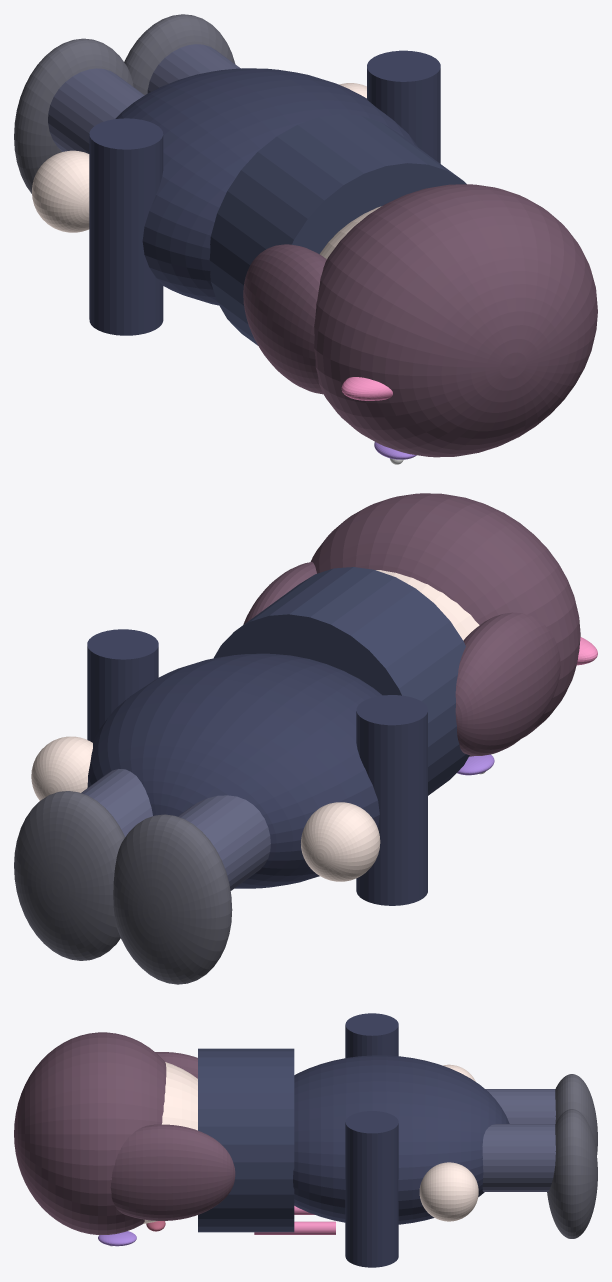
Rendered from shalu_3d.glb.
3 views of the same model, one above another, from view 1: azimuth 30°, elevation 25°; view 2: azimuth 150°, elevation 25°; view 3: azimuth 270°, elevation 25° (orthographic). The views are drawn at different scales.
Visible parts, largest first — view 1: shalu_part_3, shalu_part_0, shalu_part_1, shalu_part_13, shalu_part_4, shalu_part_21, shalu_part_14, shalu_part_19, shalu_part_15, shalu_part_22, shalu_part_20, shalu_part_11; view 2: shalu_part_0, shalu_part_3, shalu_part_1, shalu_part_21, shalu_part_22, shalu_part_13, shalu_part_4, shalu_part_14, shalu_part_15, shalu_part_19, shalu_part_16, shalu_part_20 (+2 smaller); view 3: shalu_part_0, shalu_part_3, shalu_part_1, shalu_part_5, shalu_part_14, shalu_part_22, shalu_part_20, shalu_part_16, shalu_part_13, shalu_part_2, shalu_part_19, shalu_part_21 (+3 smaller).
Part boxes in pixels (box(x1,y1,x2,y2)): shalu_part_3: box(314, 184, 597, 457); shalu_part_0: box(115, 68, 417, 305); shalu_part_1: box(209, 114, 466, 345); shalu_part_13: box(89, 118, 163, 335); shalu_part_4: box(243, 244, 326, 394); shalu_part_21: box(14, 38, 133, 193); shalu_part_14: box(367, 50, 440, 163); shalu_part_19: box(48, 68, 144, 153); shalu_part_15: box(32, 150, 89, 232); shalu_part_22: box(124, 14, 235, 94); shalu_part_20: box(147, 44, 240, 93); shalu_part_11: box(341, 377, 392, 400); shalu_part_0: box(87, 653, 382, 888); shalu_part_3: box(310, 493, 580, 756); shalu_part_1: box(214, 567, 469, 795); shalu_part_21: box(113, 814, 232, 984); shalu_part_22: box(14, 791, 125, 960); shalu_part_13: box(356, 695, 427, 905); shalu_part_4: box(455, 612, 560, 755); shalu_part_14: box(87, 629, 158, 742); shalu_part_15: box(301, 802, 380, 881); shalu_part_19: box(178, 795, 270, 890); shalu_part_16: box(31, 736, 92, 800); shalu_part_20: box(81, 769, 152, 836); shalu_part_0: box(293, 1055, 509, 1224); shalu_part_3: box(14, 1032, 166, 1234); shalu_part_1: box(198, 1048, 294, 1232); shalu_part_5: box(110, 1124, 235, 1220); shalu_part_14: box(345, 1111, 398, 1267); shalu_part_22: box(547, 1109, 597, 1238); shalu_part_20: box(482, 1124, 555, 1191); shalu_part_16: box(419, 1162, 478, 1221); shalu_part_13: box(345, 1013, 398, 1057); shalu_part_2: box(143, 1062, 197, 1223); shalu_part_19: box(485, 1089, 555, 1123); shalu_part_21: box(555, 1074, 597, 1154).
Bounding box in the file's own units: 1.96 × 1.4 × 3.94.
